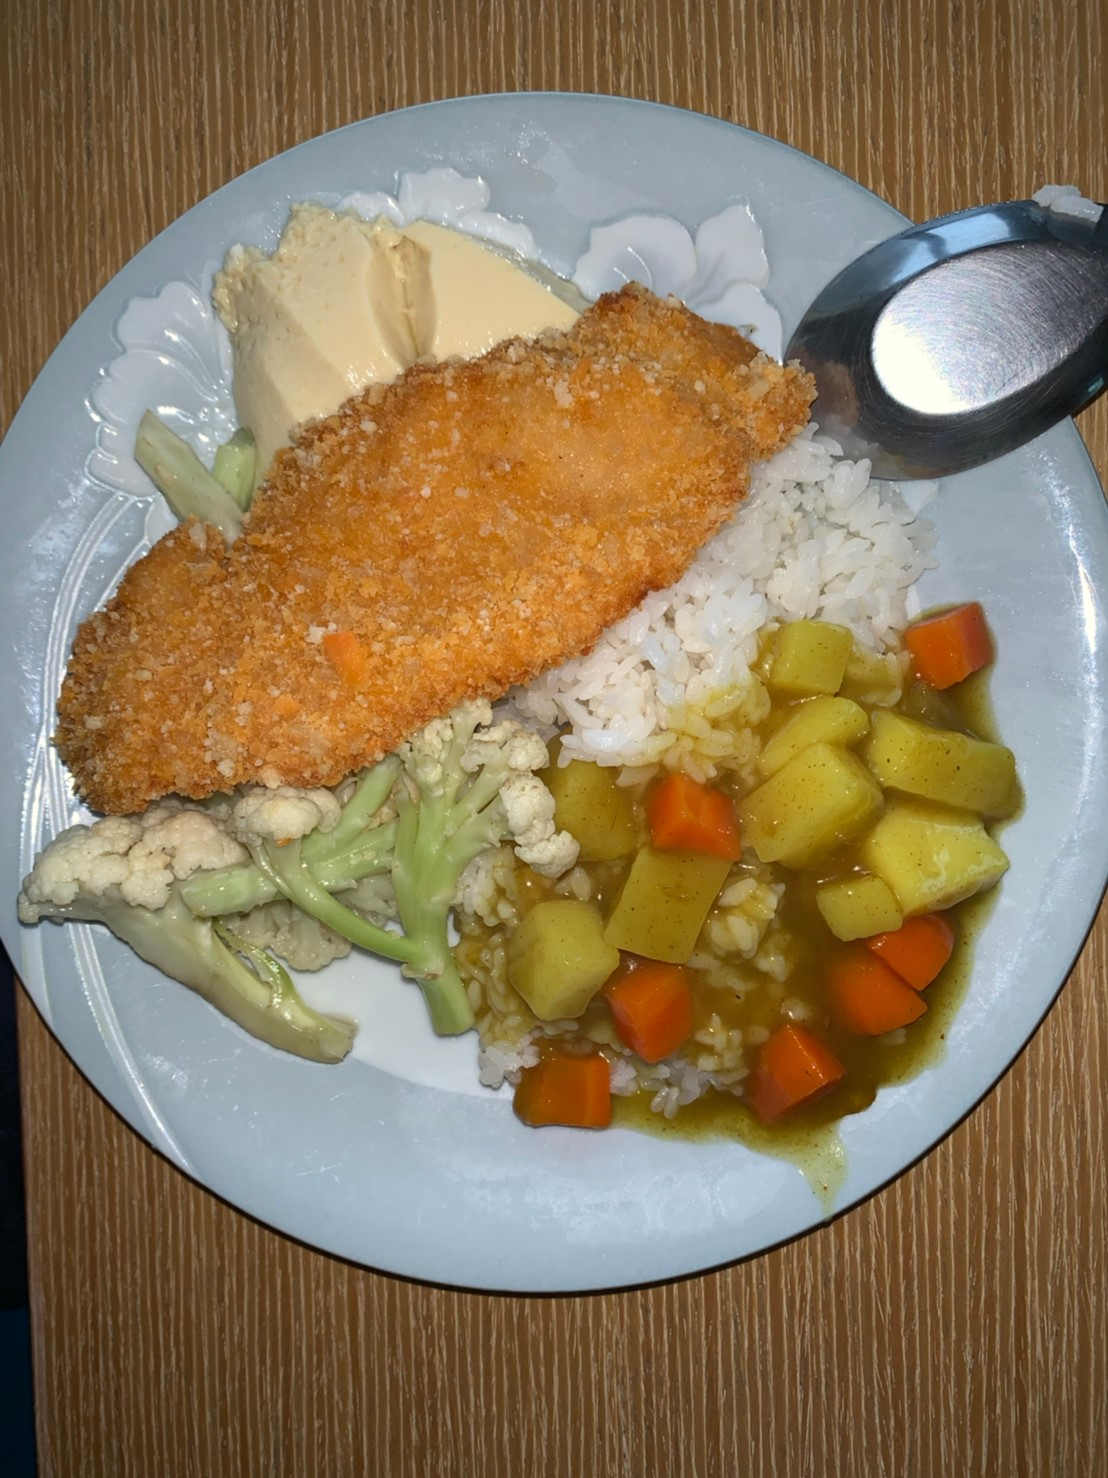curry: (454, 598, 1034, 1141)
fried_chicken: (52, 286, 816, 822)
rice: (520, 429, 933, 760)
